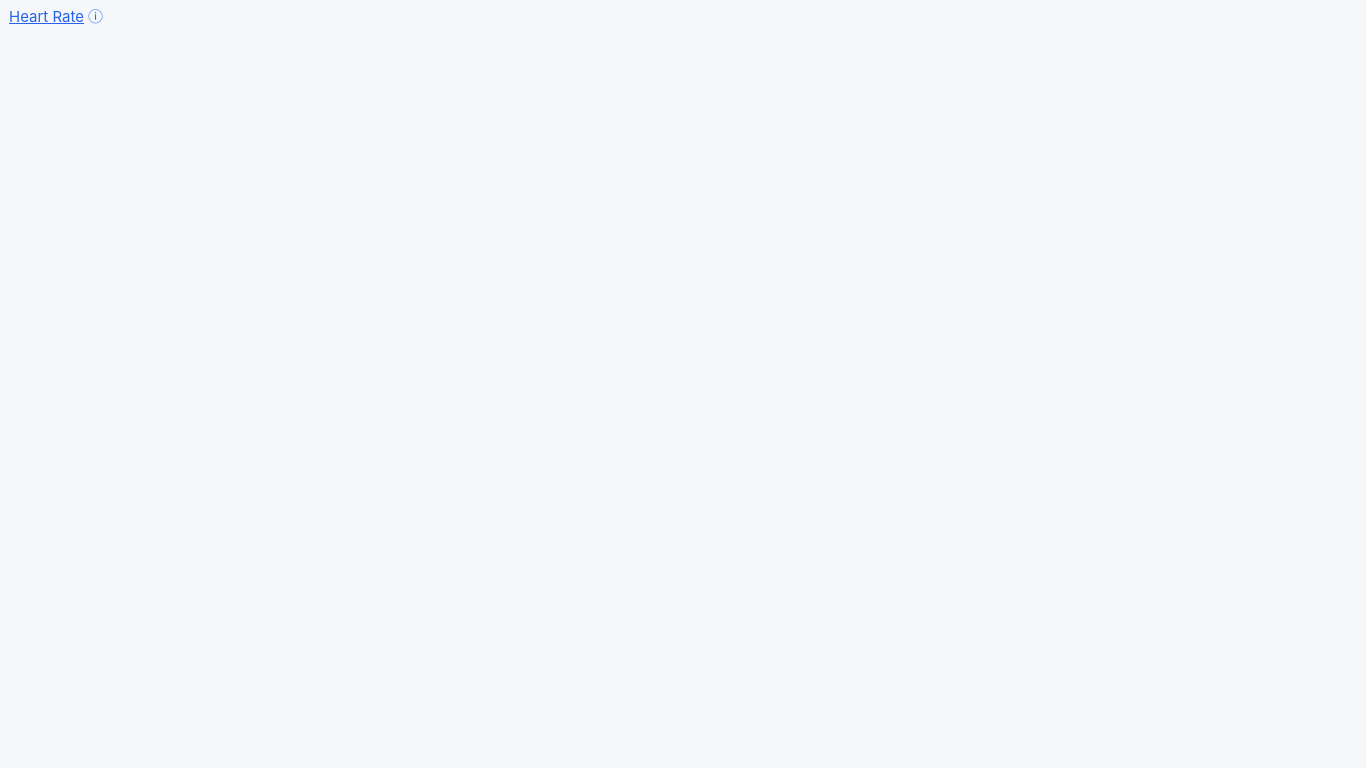
Test case: MedicalTermDialog › shows no caution paragraph when caution is null
Click the button "Heart Rate ⓘ". click: (56, 17)
box: [0,0,112,33]
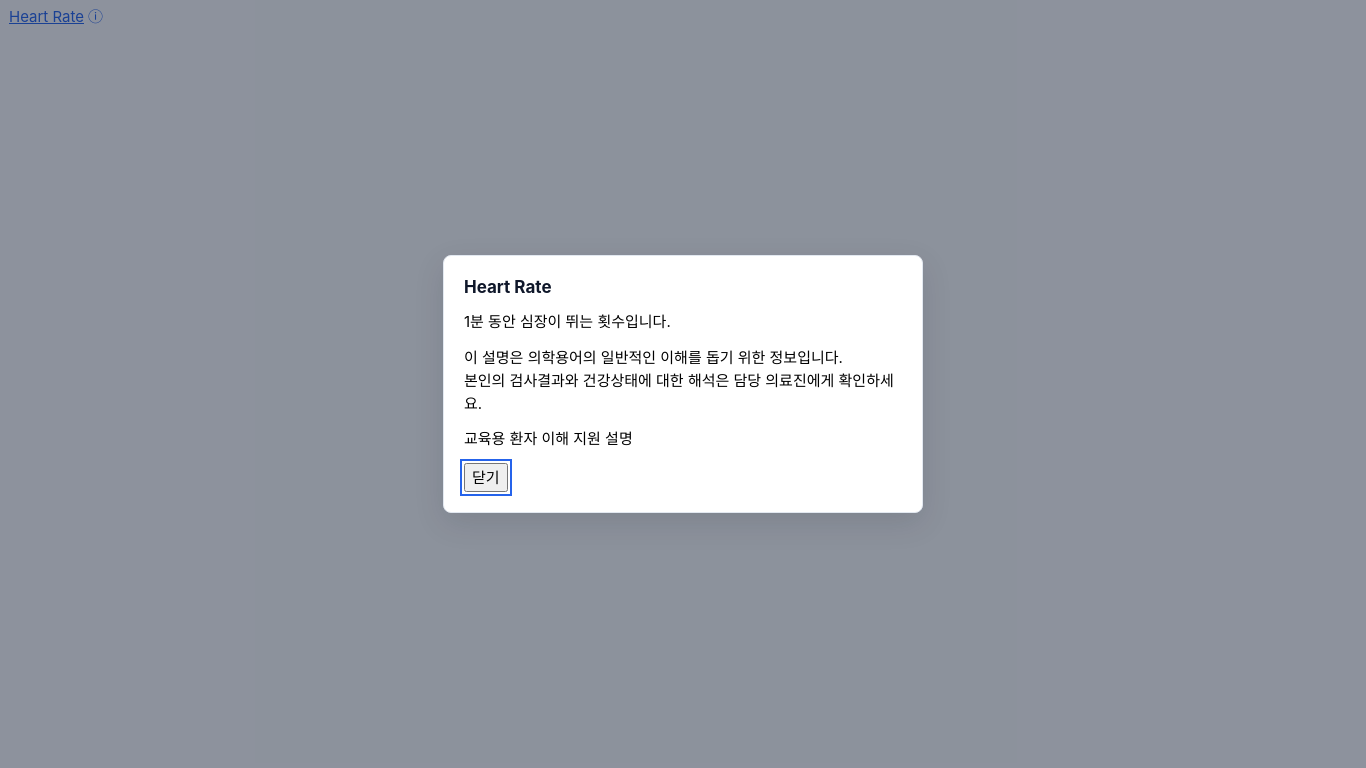
Now the text "1분 동안 심장이 뛰는 횟수입니다." is shown, box [464,312,671,331]
